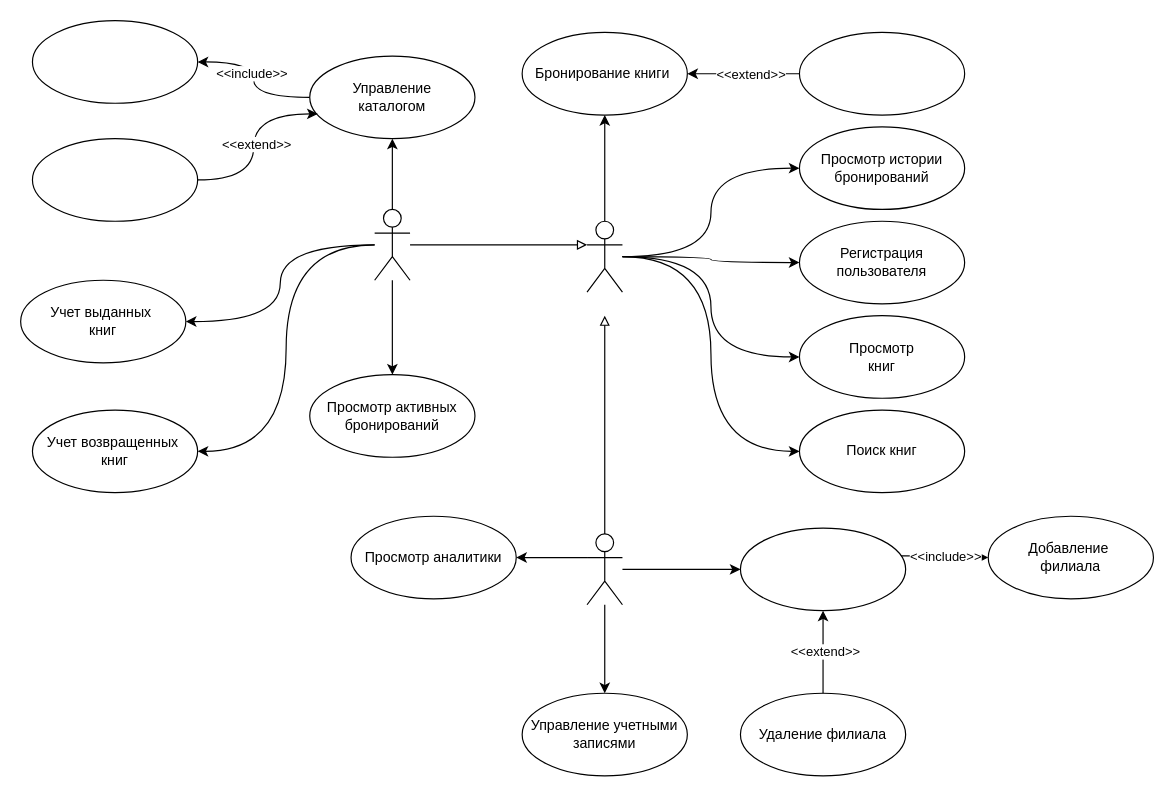
This 1174x796 diagram has some shape labels left out. Each missing label, with the centre of its shape:
Администратор: (x=604, y=569)
Библиотекарь: (x=391, y=244)
Добавление книг: (x=114, y=61)
Отмена бронирования: (x=881, y=73)
Удаление книг: (x=114, y=179)
Управление филиалами: (x=822, y=569)
Читатель: (x=604, y=256)
